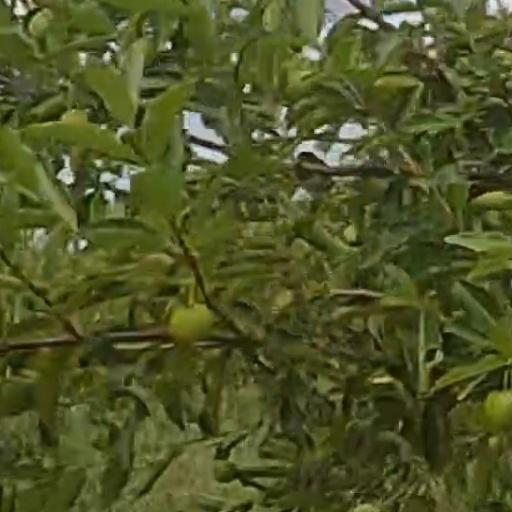acerola_verde: (170, 305, 213, 346), (486, 389, 511, 432)
